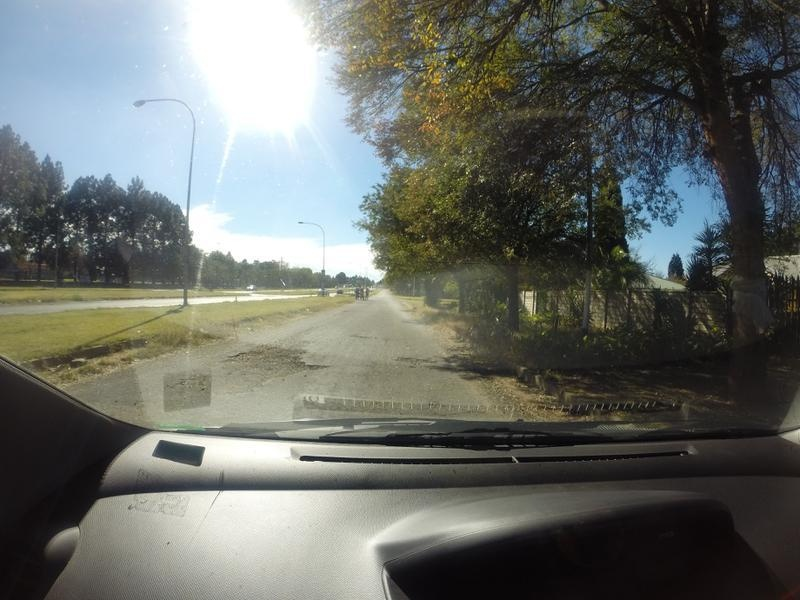pothole: (209, 337, 328, 396), (154, 367, 206, 402), (376, 350, 437, 367), (336, 329, 386, 342)
